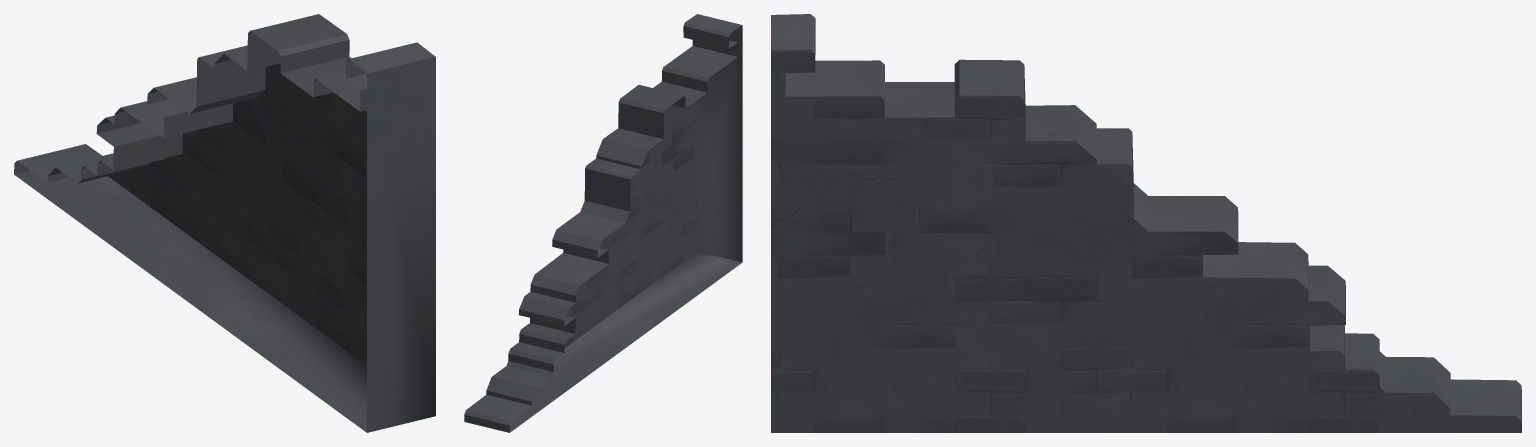
File: SM_Rubble_Wall_02.fbx
3 renders of one model, left to right at view 1: azimuth 30°, elevation 25°; view 2: azimuth 150°, elevation 25°; view 3: azimuth 270°, elevation 25°, orthographic. The views are drawn at different scales.
Visible parts, largest first — view 1: SM_Rubble_Wall_02; view 2: SM_Rubble_Wall_02; view 3: SM_Rubble_Wall_02.
Part boxes in pixels (x1=…): SM_Rubble_Wall_02: x1=14, y1=14, x2=435, y2=432; SM_Rubble_Wall_02: x1=464, y1=14, x2=742, y2=432; SM_Rubble_Wall_02: x1=771, y1=14, x2=1521, y2=432.
Size of the model in its own units: 95.83 by 479 by 851.
